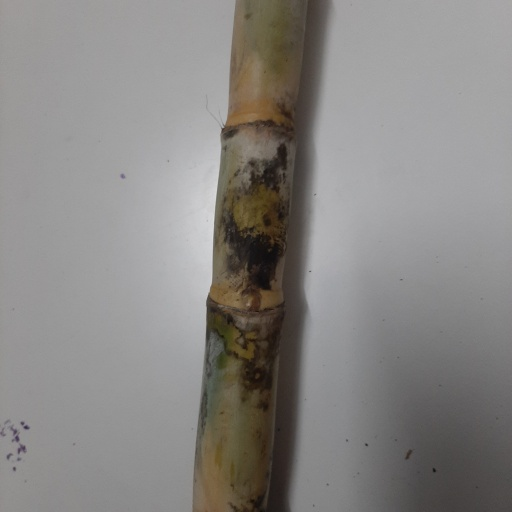Bud: (243, 289, 260, 311)
